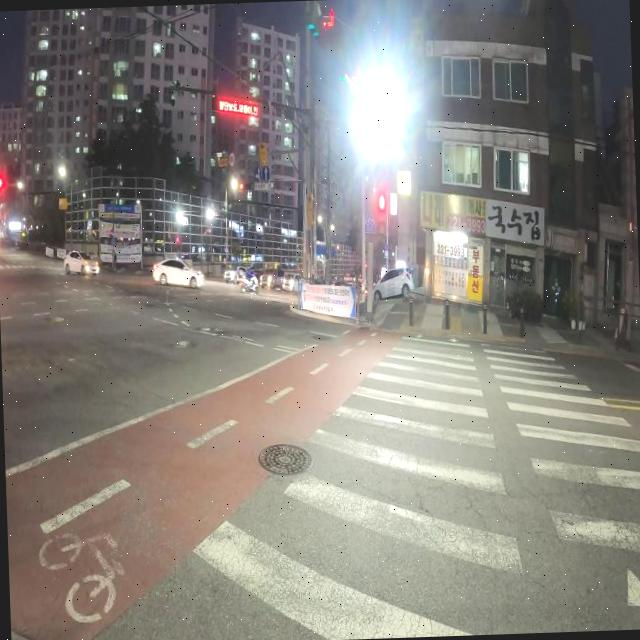crosswalk: (176, 331, 640, 640)
